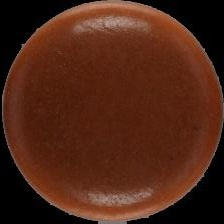64725-5916: (0, 0, 224, 224)
